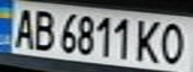1: (112, 15, 136, 61), (93, 14, 115, 57)
6: (54, 10, 78, 54)
8: (75, 12, 96, 56)
A: (9, 4, 39, 50)
B: (27, 7, 57, 52)
K: (133, 16, 166, 64)
O: (154, 19, 190, 65)
